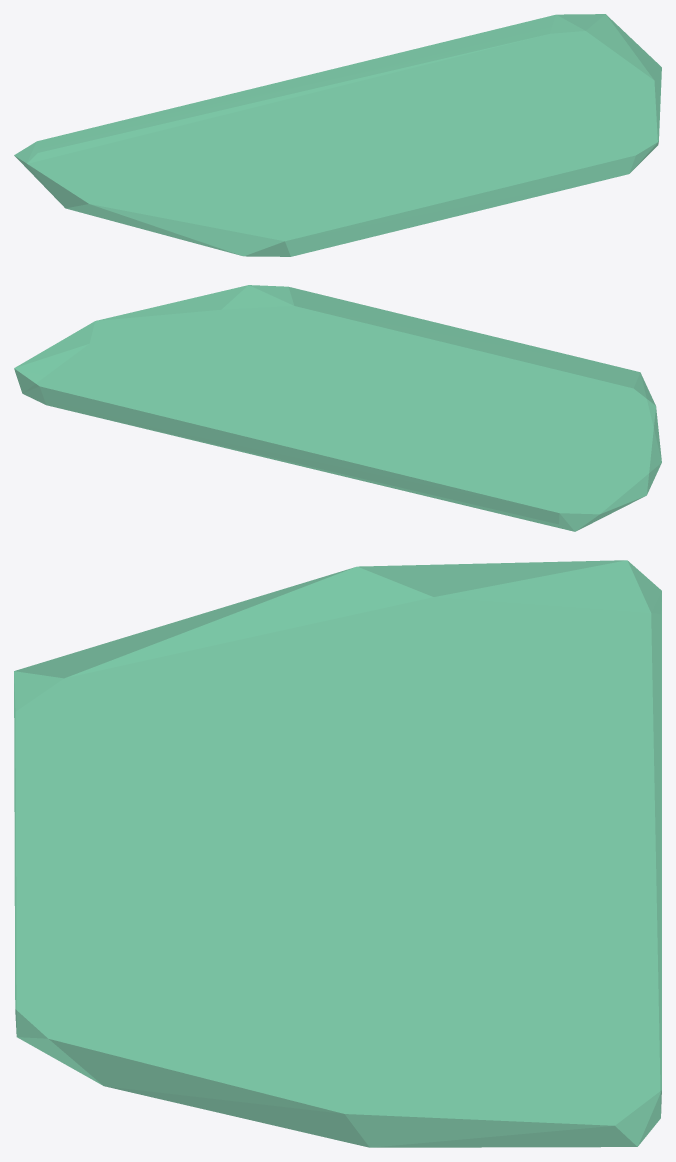
3 renders of one model, top to bottom at view 1: azimuth 30°, elevation 25°; view 2: azimuth 150°, elevation 25°; view 3: azimuth 270°, elevation 25°, orthographic. The views are drawn at different scales.
Parts seen in each view (by area): view 1: Shape_IndexedFaceSet.032_Shape_IndexedFaceSet.11110; view 2: Shape_IndexedFaceSet.032_Shape_IndexedFaceSet.11110; view 3: Shape_IndexedFaceSet.032_Shape_IndexedFaceSet.11110.
Part boxes in pixels (x1,y1,x2,y2): Shape_IndexedFaceSet.032_Shape_IndexedFaceSet.11110: (14, 14, 661, 256); Shape_IndexedFaceSet.032_Shape_IndexedFaceSet.11110: (14, 285, 661, 531); Shape_IndexedFaceSet.032_Shape_IndexedFaceSet.11110: (14, 560, 661, 1147).
Bounding box in the file's own units: 0.7236 × 0.0208 × 0.3503.
